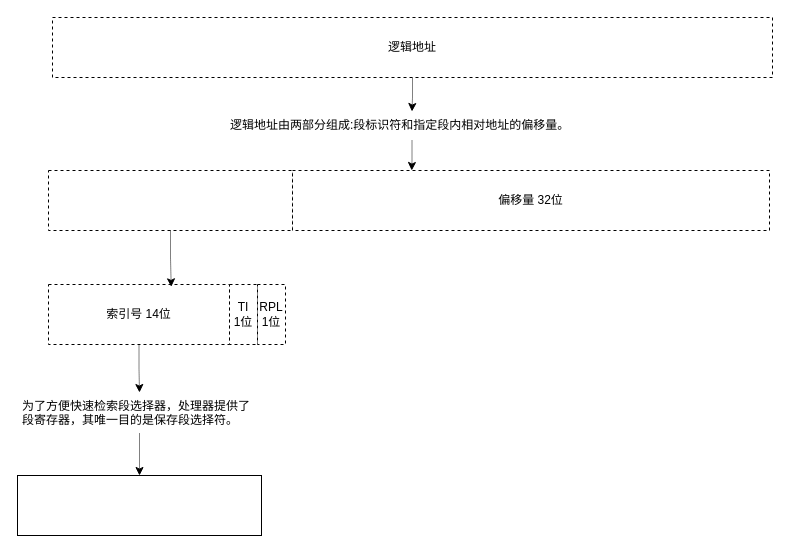
Some shapes in this 790 by 553 pixel diagram are drawn without their labels. Each missing label, with the centre of its shape:
"段寄存器" belongs at pixel 139 505.
"段标识符（段选择符）16位" belongs at pixel 170 200.
